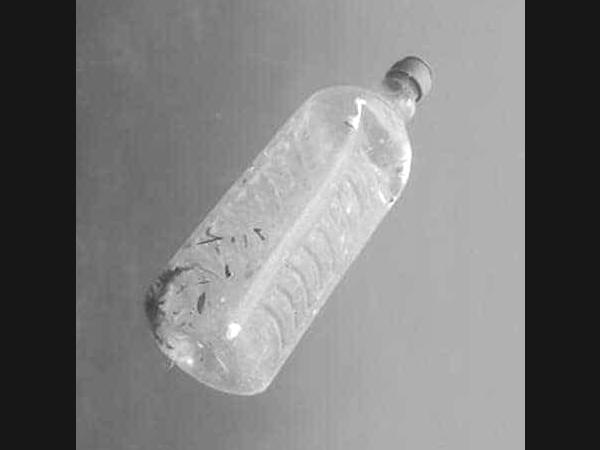bottle: (113, 16, 468, 406)
